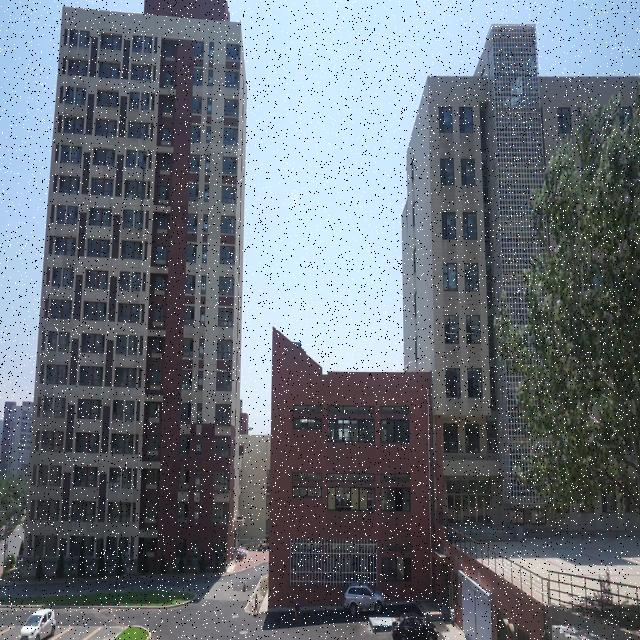UAV: (403, 359, 414, 372)
